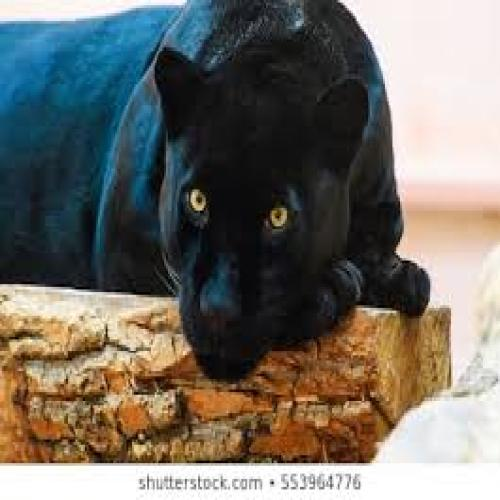panther-endangered: (35, 0, 432, 389)
